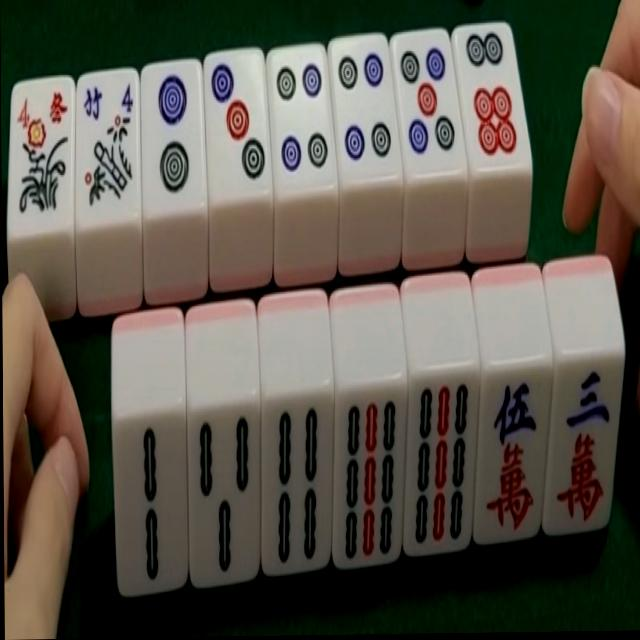2B: (108, 415, 193, 602)
2D: (138, 63, 206, 217), (268, 49, 337, 195)
3B: (187, 409, 265, 589)
3C: (543, 362, 626, 536)
3D: (202, 52, 271, 195)
4B: (260, 399, 336, 579)
4D: (330, 34, 403, 181)
4F: (73, 72, 141, 225)
4S: (10, 73, 73, 237)
5C: (473, 368, 558, 545)
5D: (392, 29, 467, 174)
6D: (456, 29, 530, 168)
9B: (332, 387, 412, 568), (404, 374, 482, 555)
